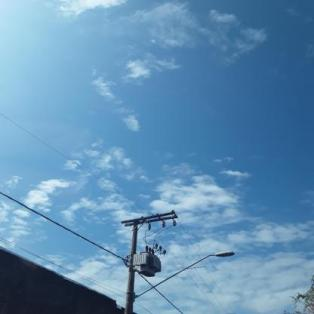Poste: (117, 216, 142, 314)
